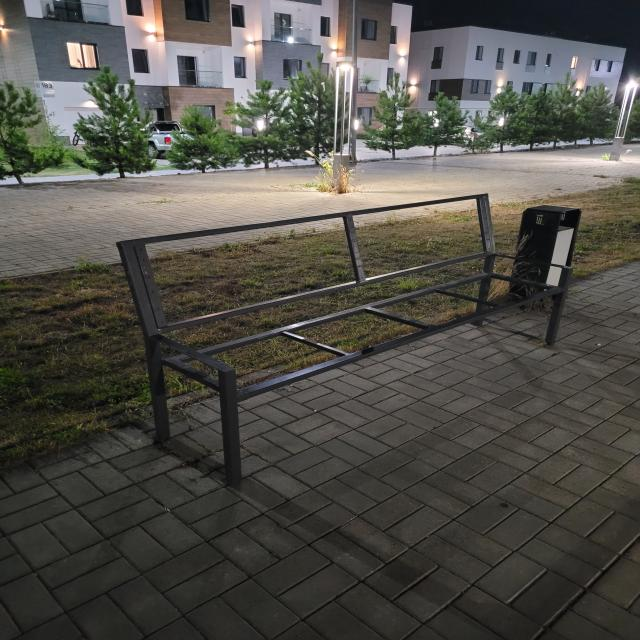Bench: (118, 193, 575, 486)
